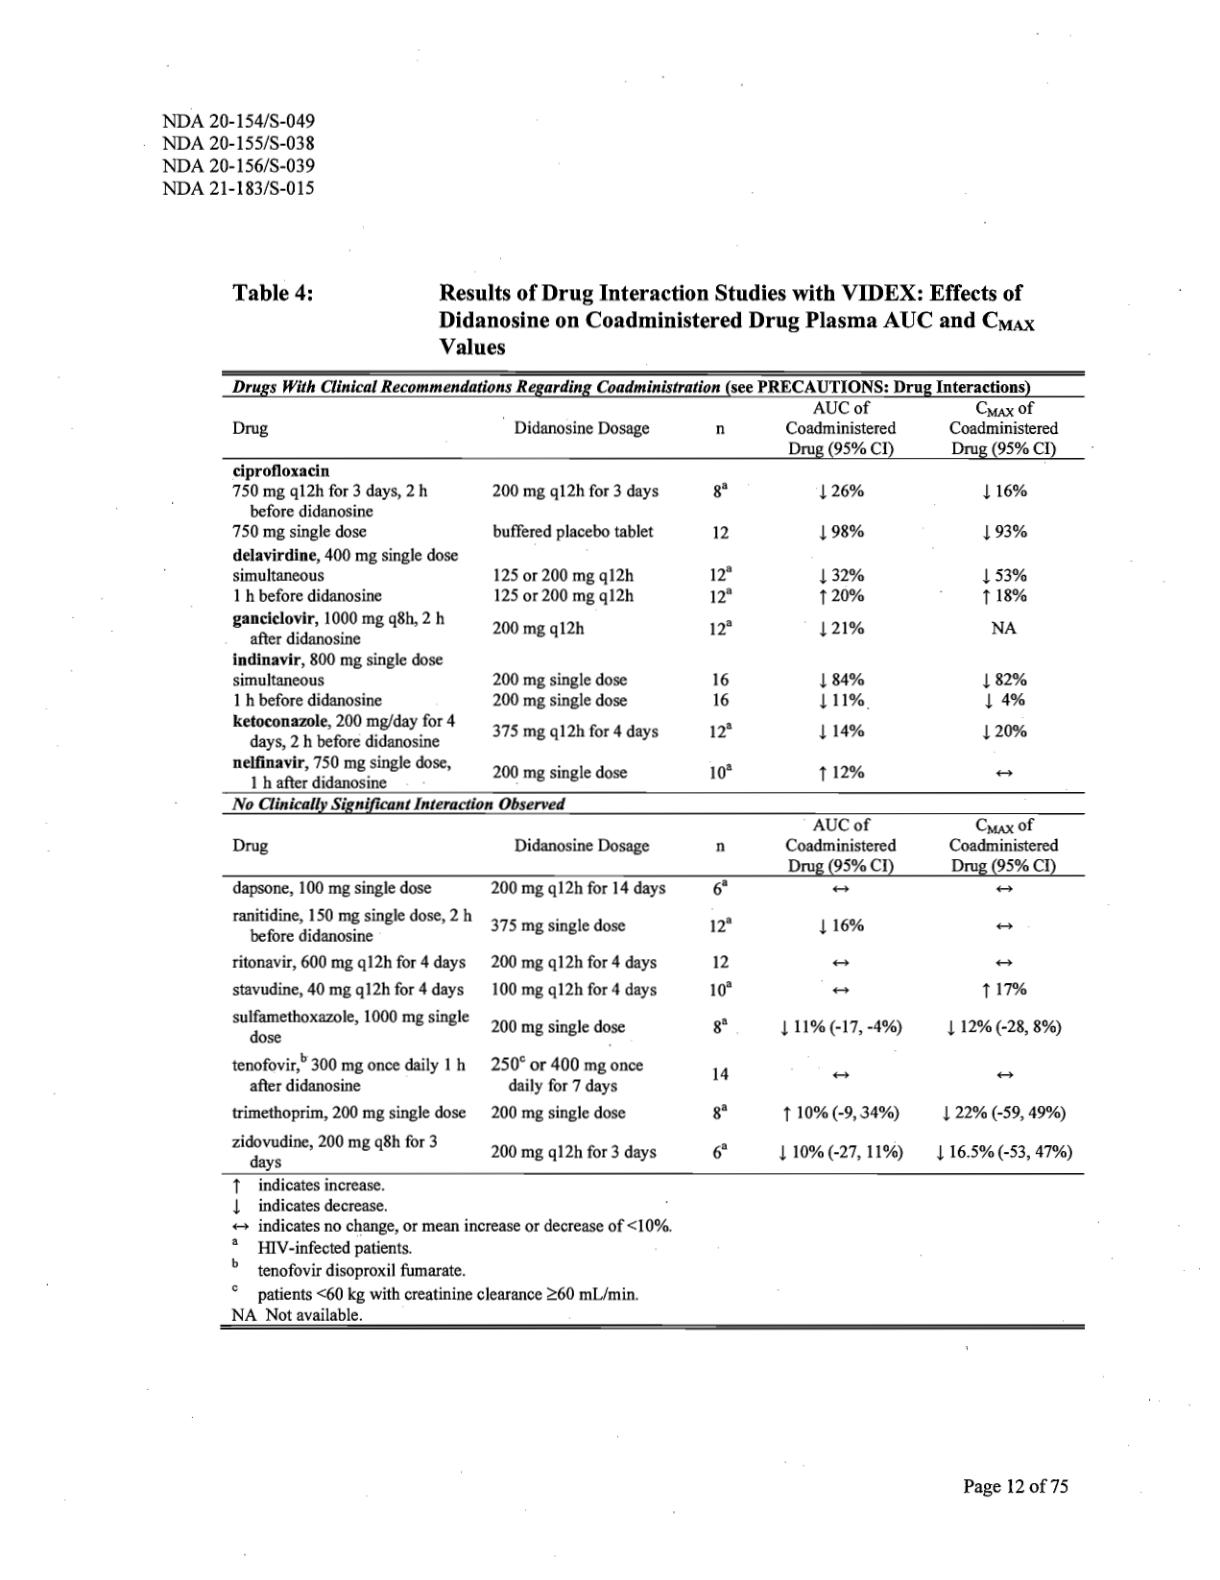partial_lined_merged_cells: (222, 370, 1087, 1176)
